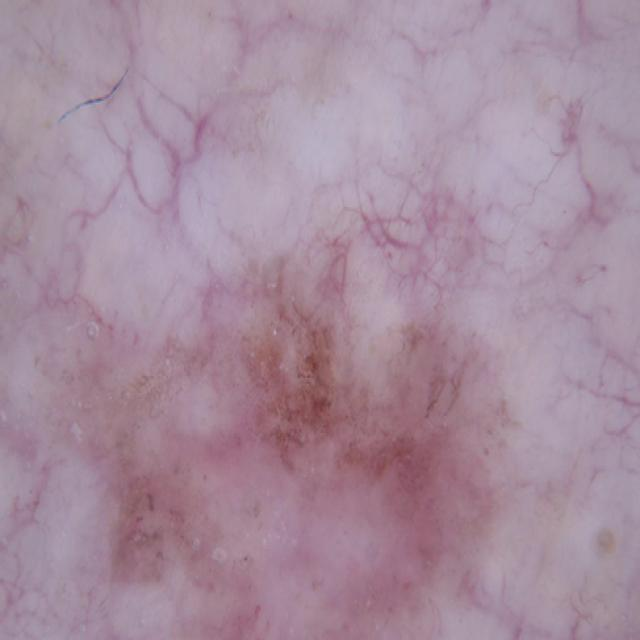Keratosis: (94, 188, 512, 640)
